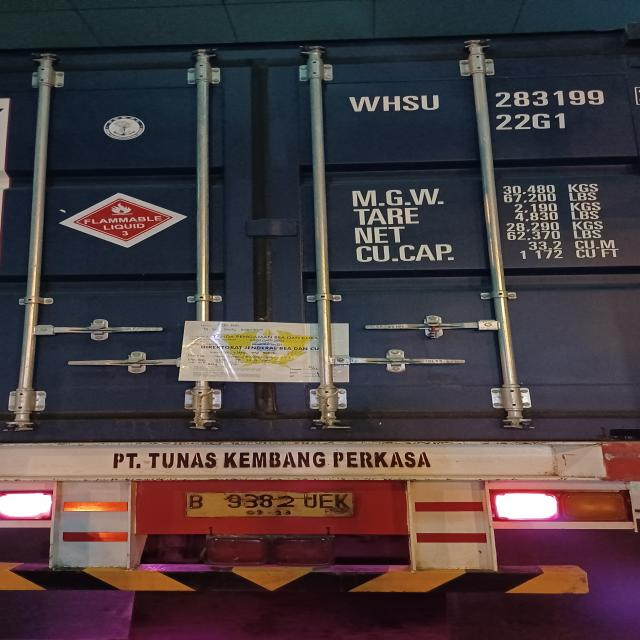seal: (425, 320, 442, 338)
